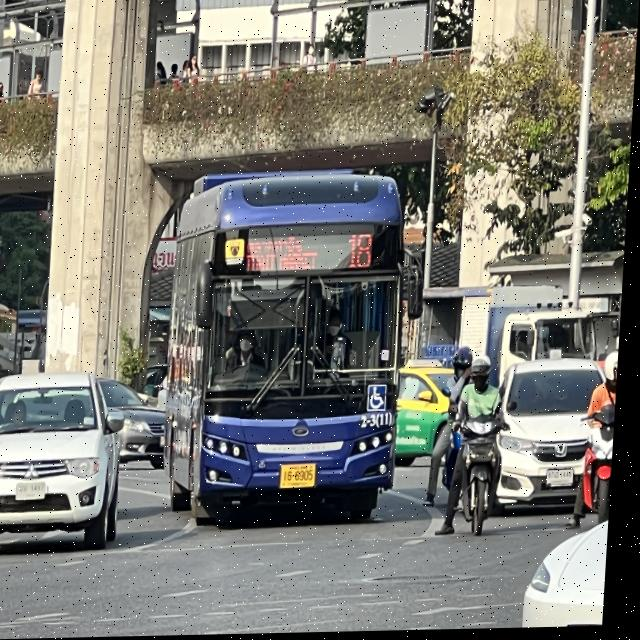Bus Line Number: (343, 225, 388, 279)
Bus Side Number: (361, 413, 399, 435)
Destination Sign: (241, 232, 325, 276)
TSB-Bus: (169, 172, 411, 531)
